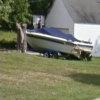Boat: (19, 24, 99, 63)
